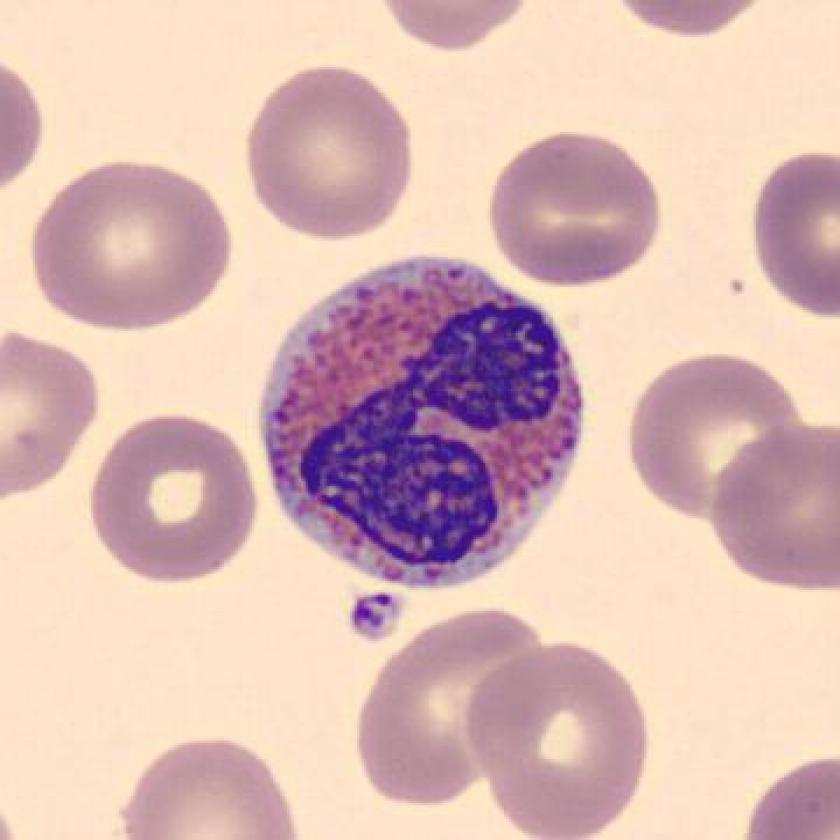eosinophil: (246, 240, 594, 608)
